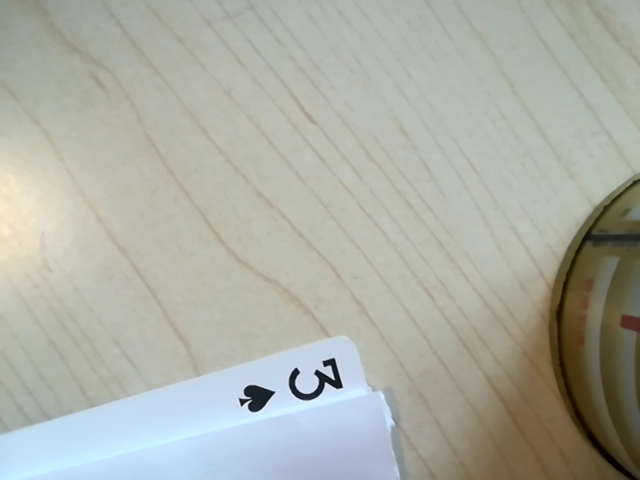ht 3: (220, 350, 365, 423)
